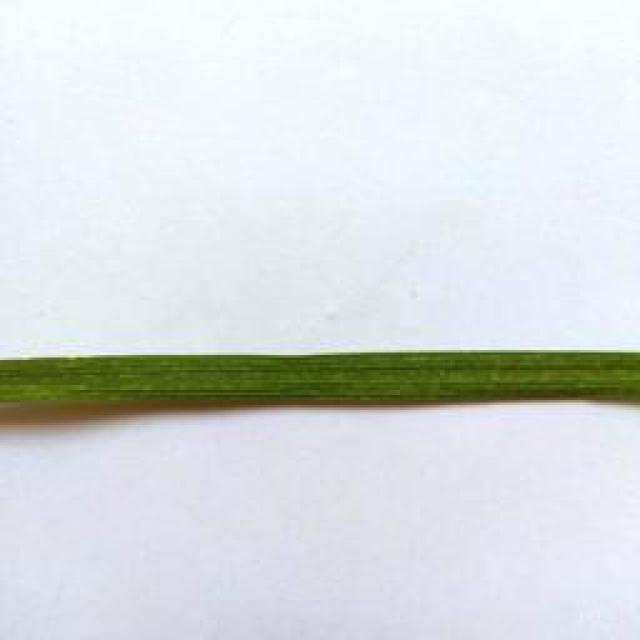Healthy-Plant: (2, 350, 640, 430)
